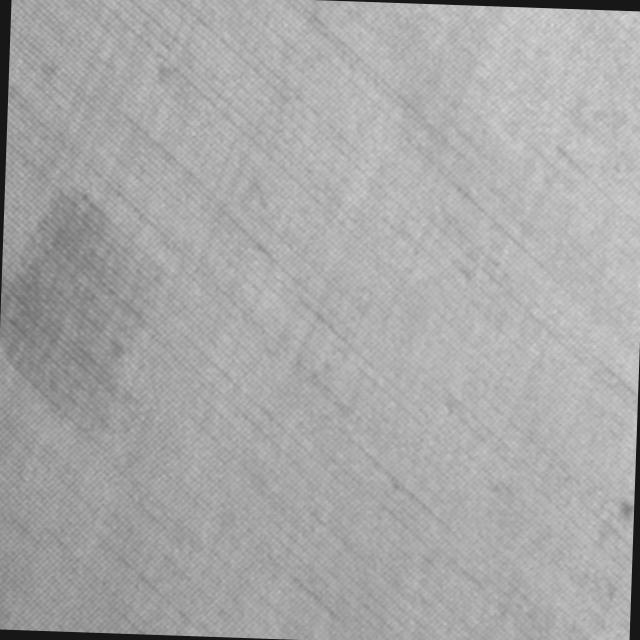oil spot: (0, 175, 167, 445)
